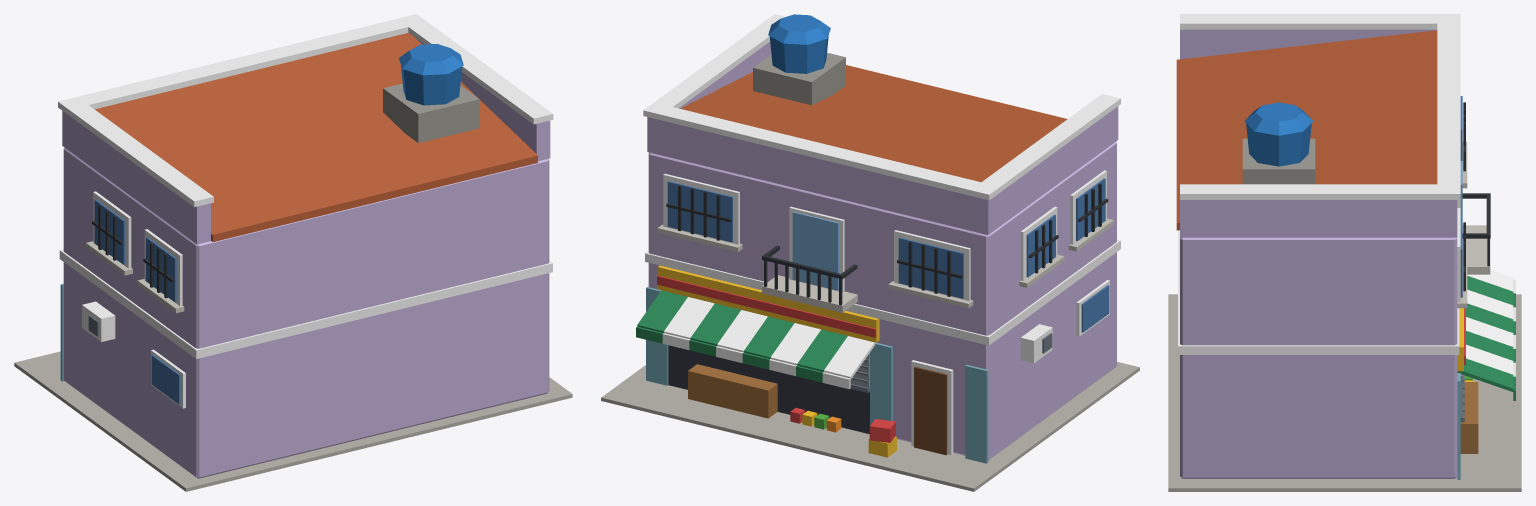
Rendered from sobrado_comercio.glb.
3 views of the same model, side by side, from view 1: azimuth 30°, elevation 25°; view 2: azimuth 150°, elevation 25°; view 3: azimuth 270°, elevation 25° (orthographic). The views are drawn at different scales.
Parts seen in each view (by area): view 1: corpo; view 2: corpo; view 3: corpo.
Boxes of the visible parts, x1,y1,x2,y2 form: corpo: (14,14,572,491); corpo: (601,14,1139,491); corpo: (1168,14,1521,491).
Bounding box in the file's own units: 1.39 × 1.12 × 1.07.
